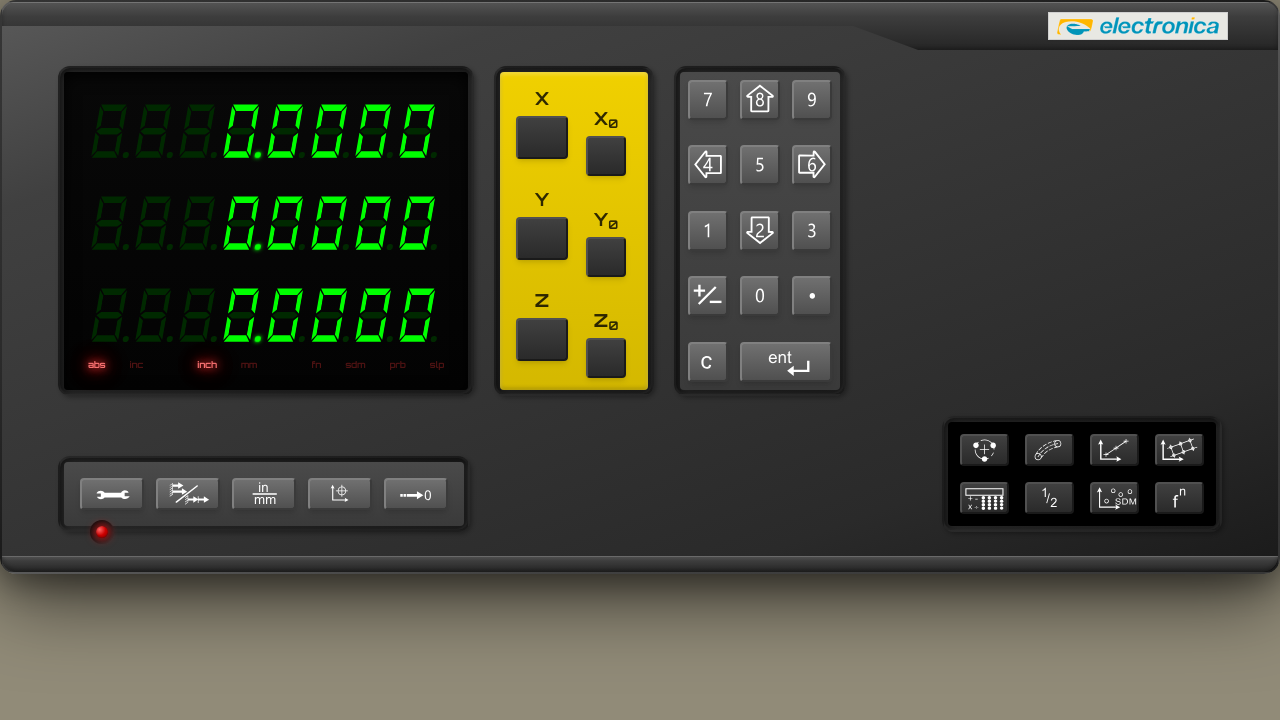
US-048 Screen Reader Support (integration) › AC: LED indicators as disabled radios › moves the checked radio when positioning mode toggles to INC
This screenshot has width=1280, height=720.
Click the button with test id "btn-abs-inc".
click(188, 494)  # box [156,478,220,510]
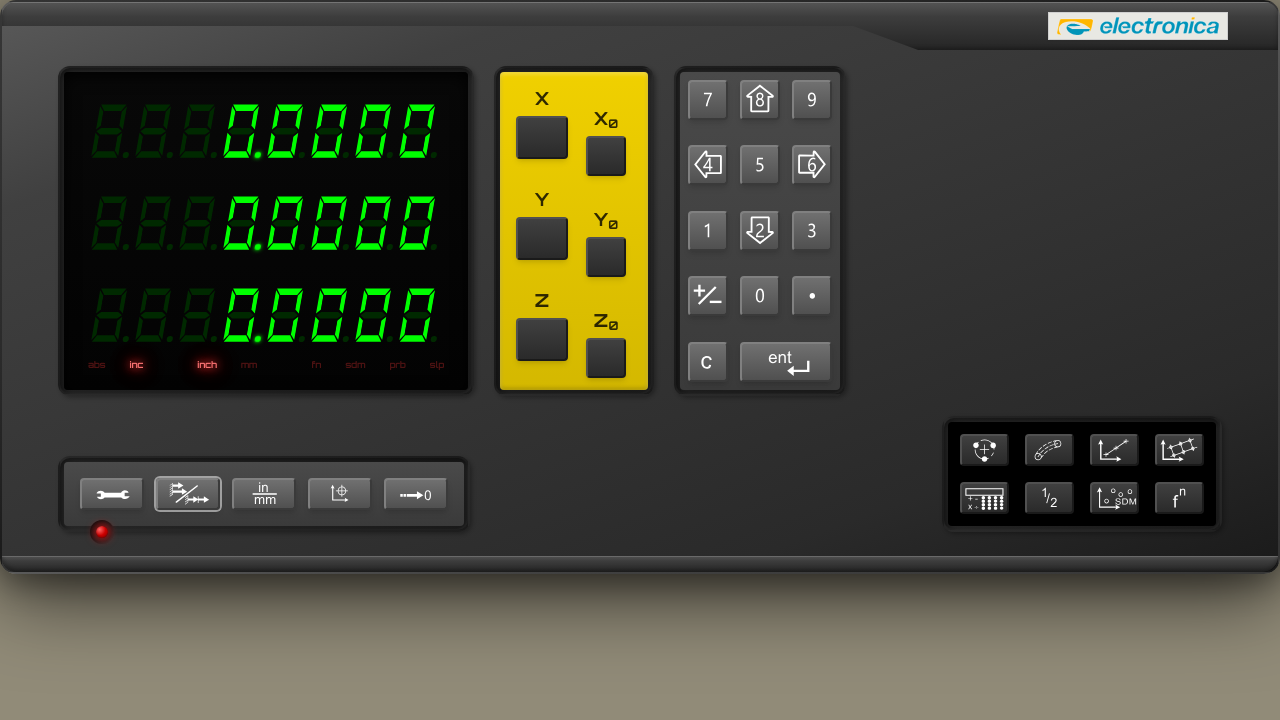
Expected: the radio button labelled "abs" is not checked, [88,359,106,370]
Expected: the radio button labelled "inc" is checked, [130,359,143,370]
